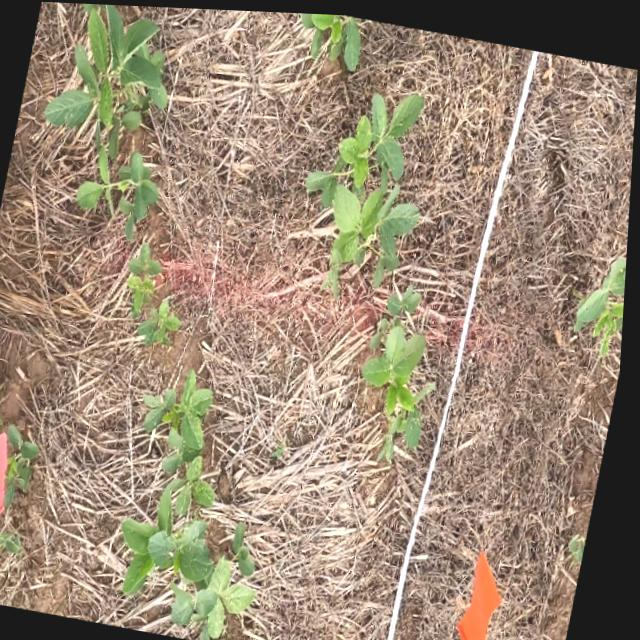soy_plant: (128, 372, 261, 640), (47, 3, 168, 238), (309, 92, 424, 286), (367, 284, 435, 456), (130, 242, 184, 343), (586, 254, 629, 343), (305, 11, 361, 66), (8, 426, 44, 506), (0, 531, 28, 573), (575, 532, 592, 557)
